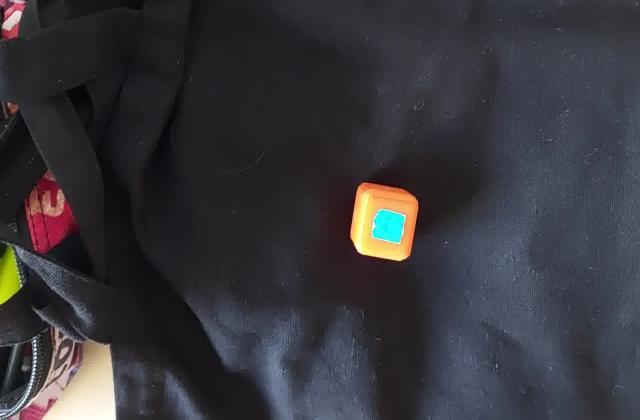blue: (380, 214, 401, 238)
sticker: (347, 178, 420, 266)
